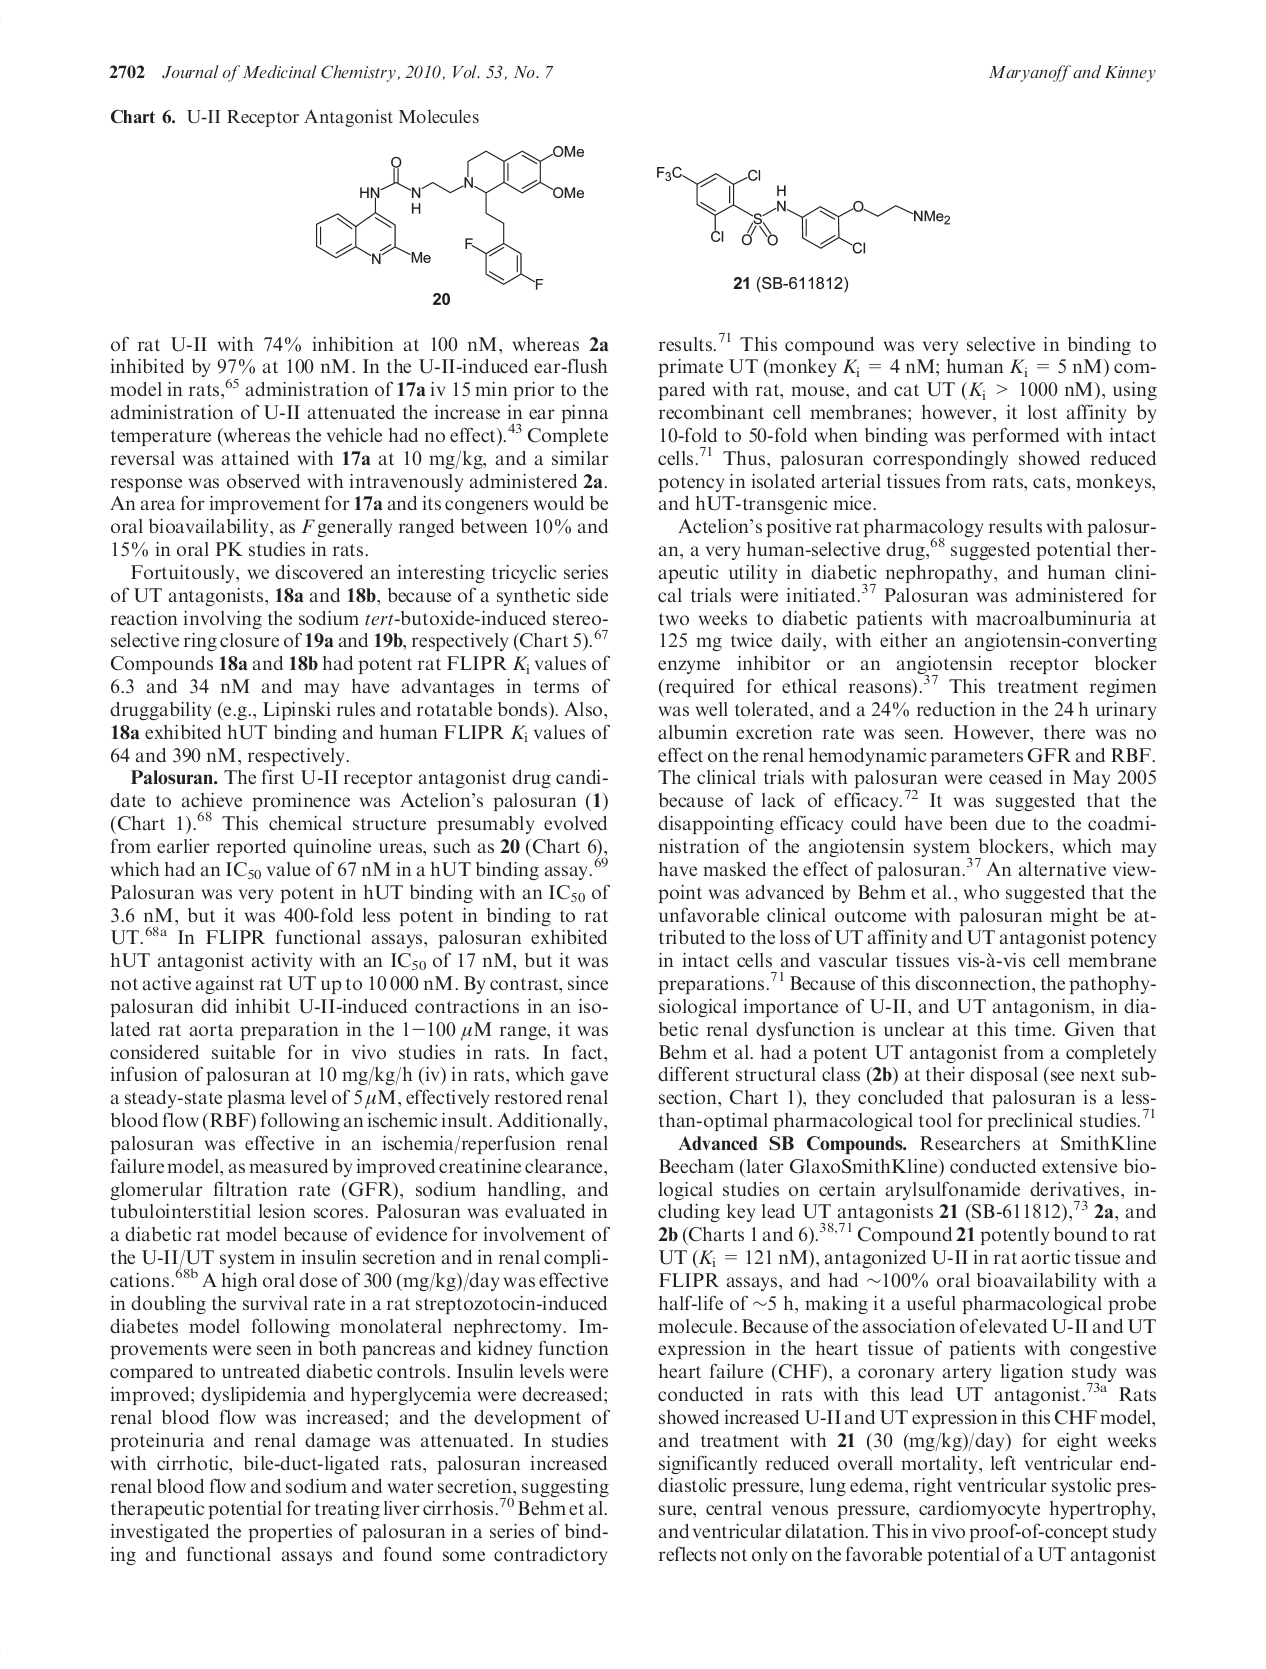exist_molecular: (314, 142, 586, 293), (654, 160, 952, 255)
